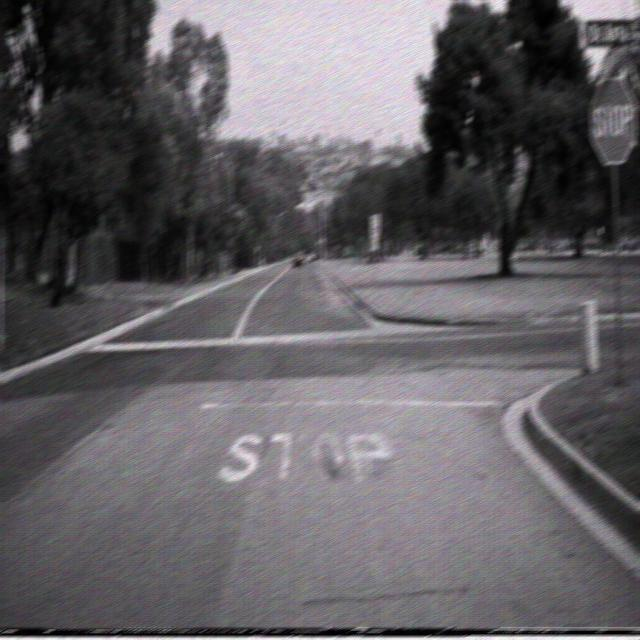speedLimit30: (369, 213, 379, 237)
stop: (589, 75, 635, 164)
